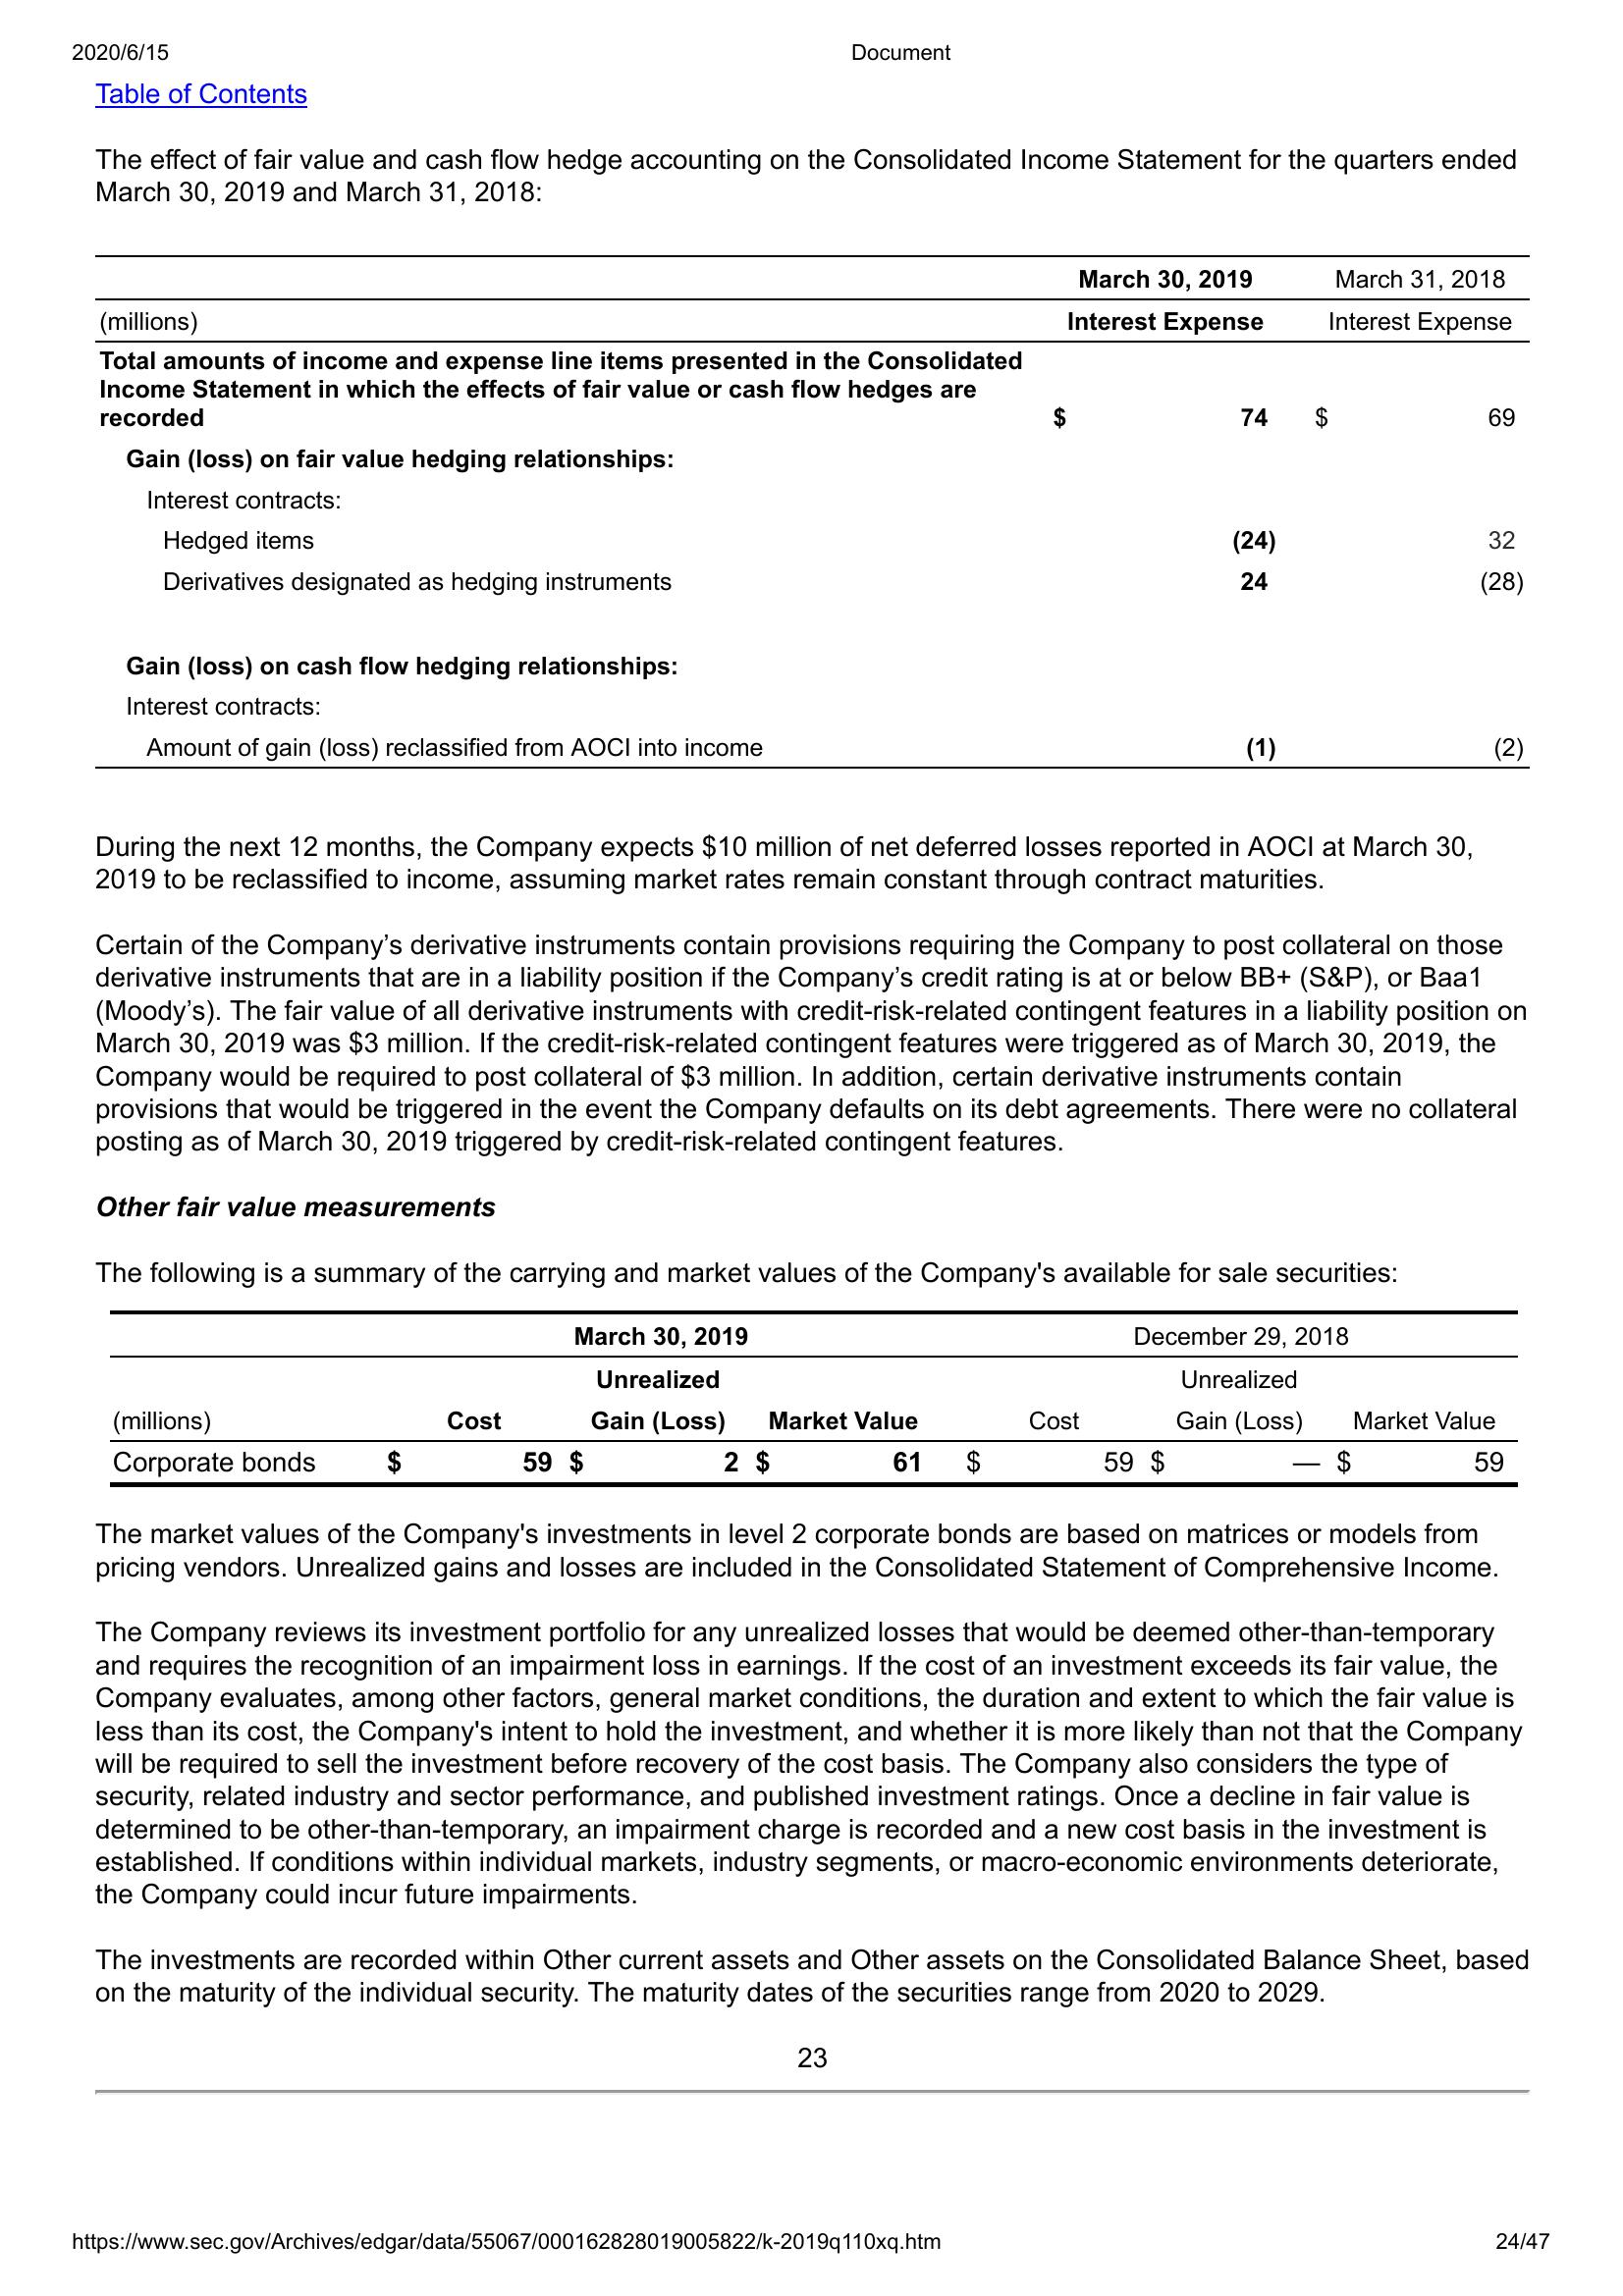table: (88, 249, 1539, 772), (98, 1302, 1528, 1497)
